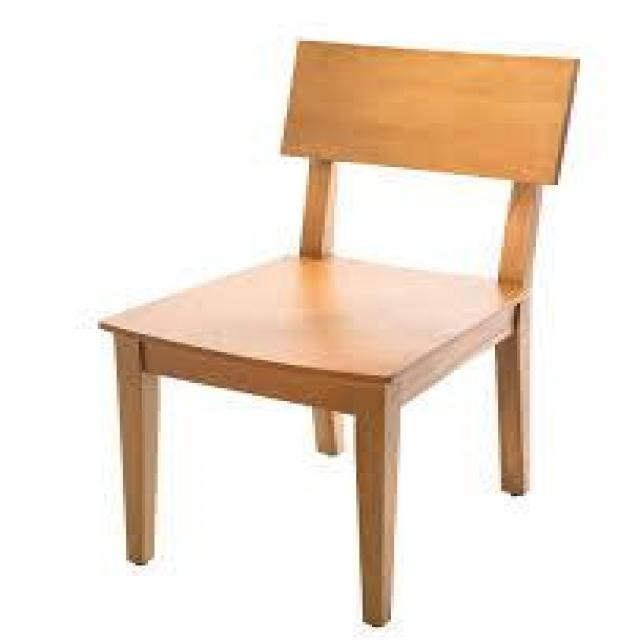chair: (62, 24, 576, 574)
